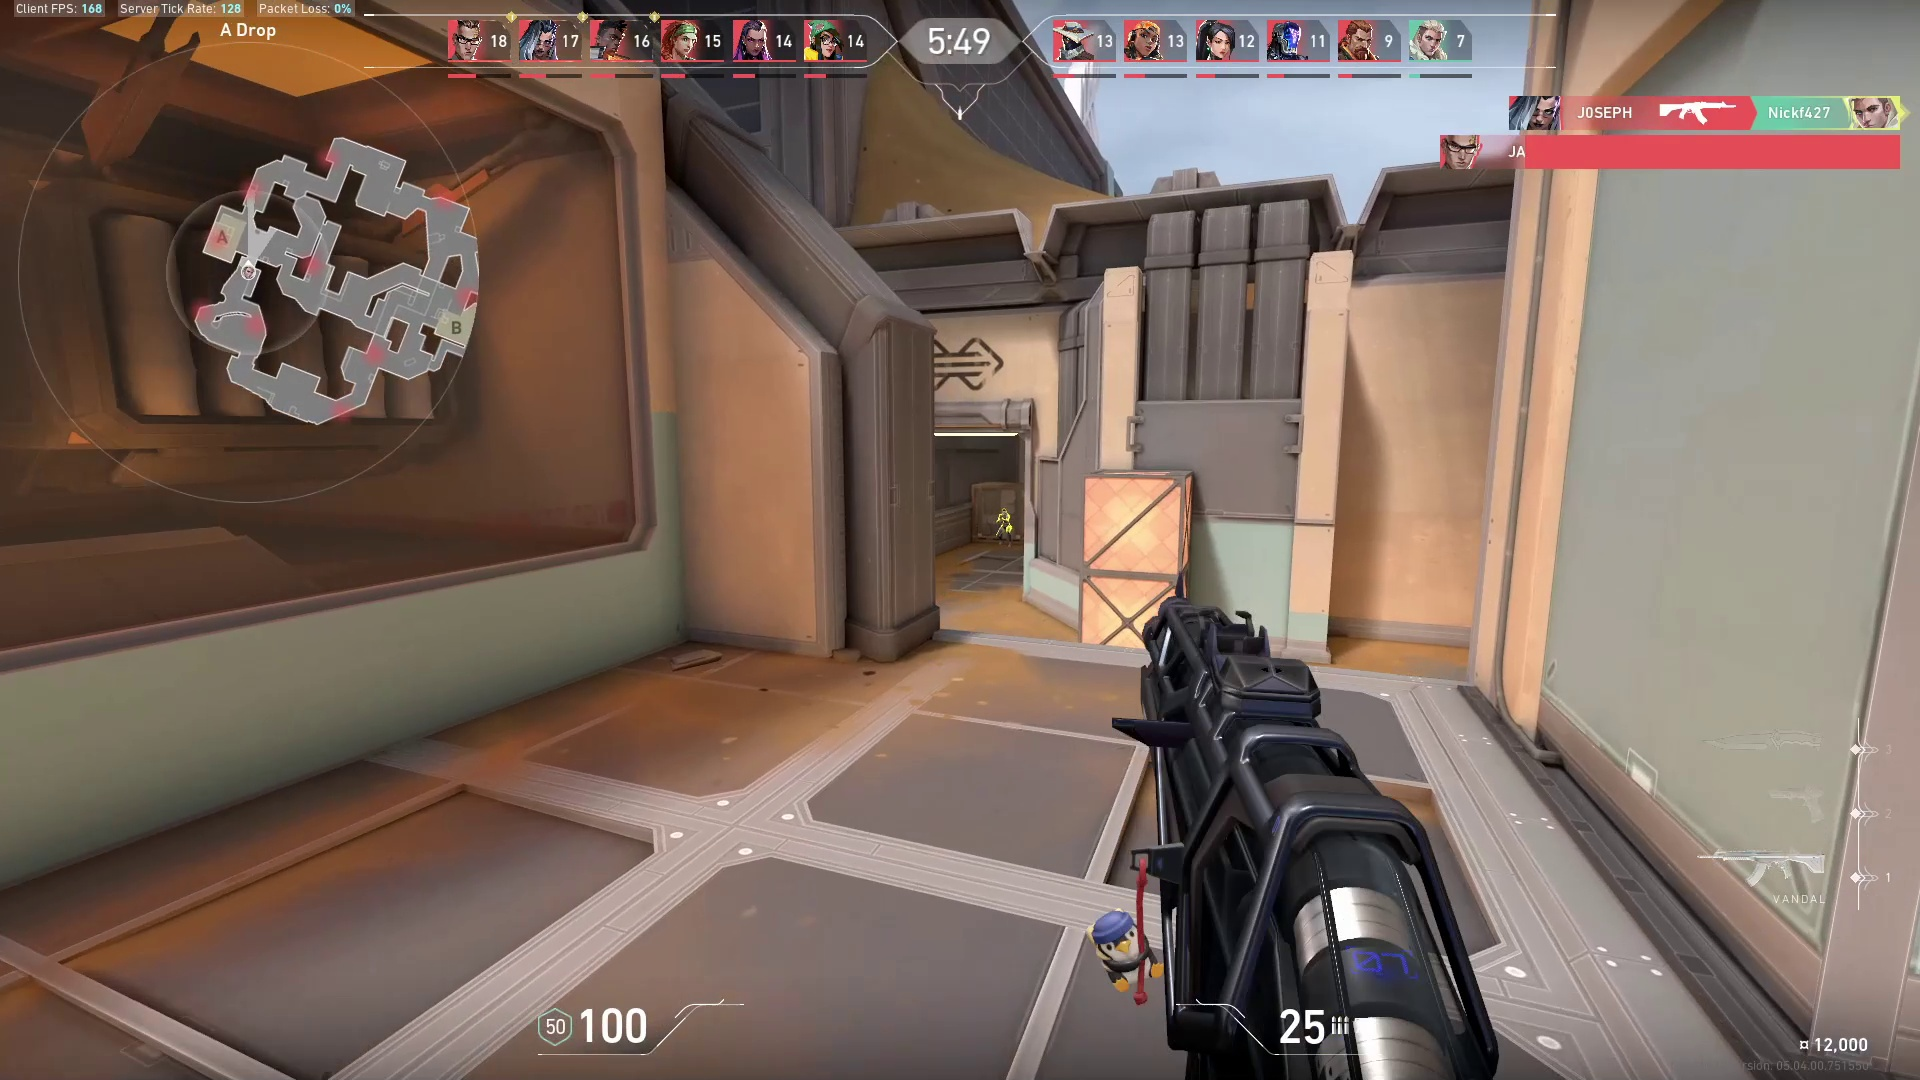enemy_body: (989, 514, 1022, 549)
enemy_head: (997, 502, 1011, 517)
